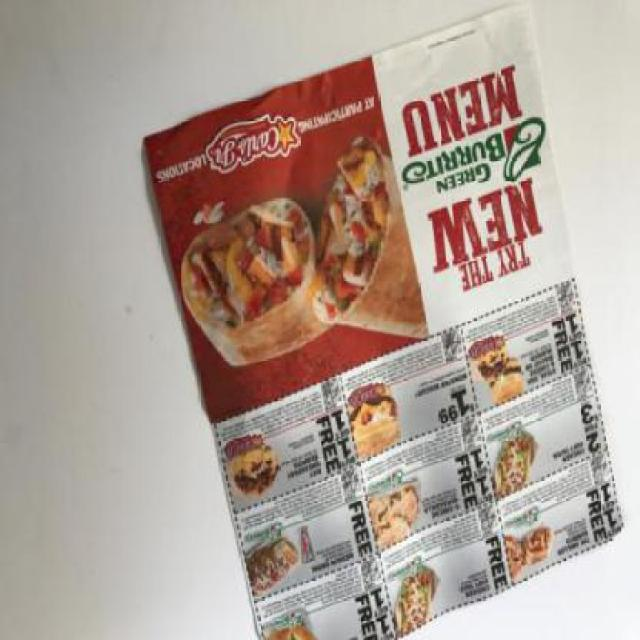PAPER: (143, 6, 626, 639)
